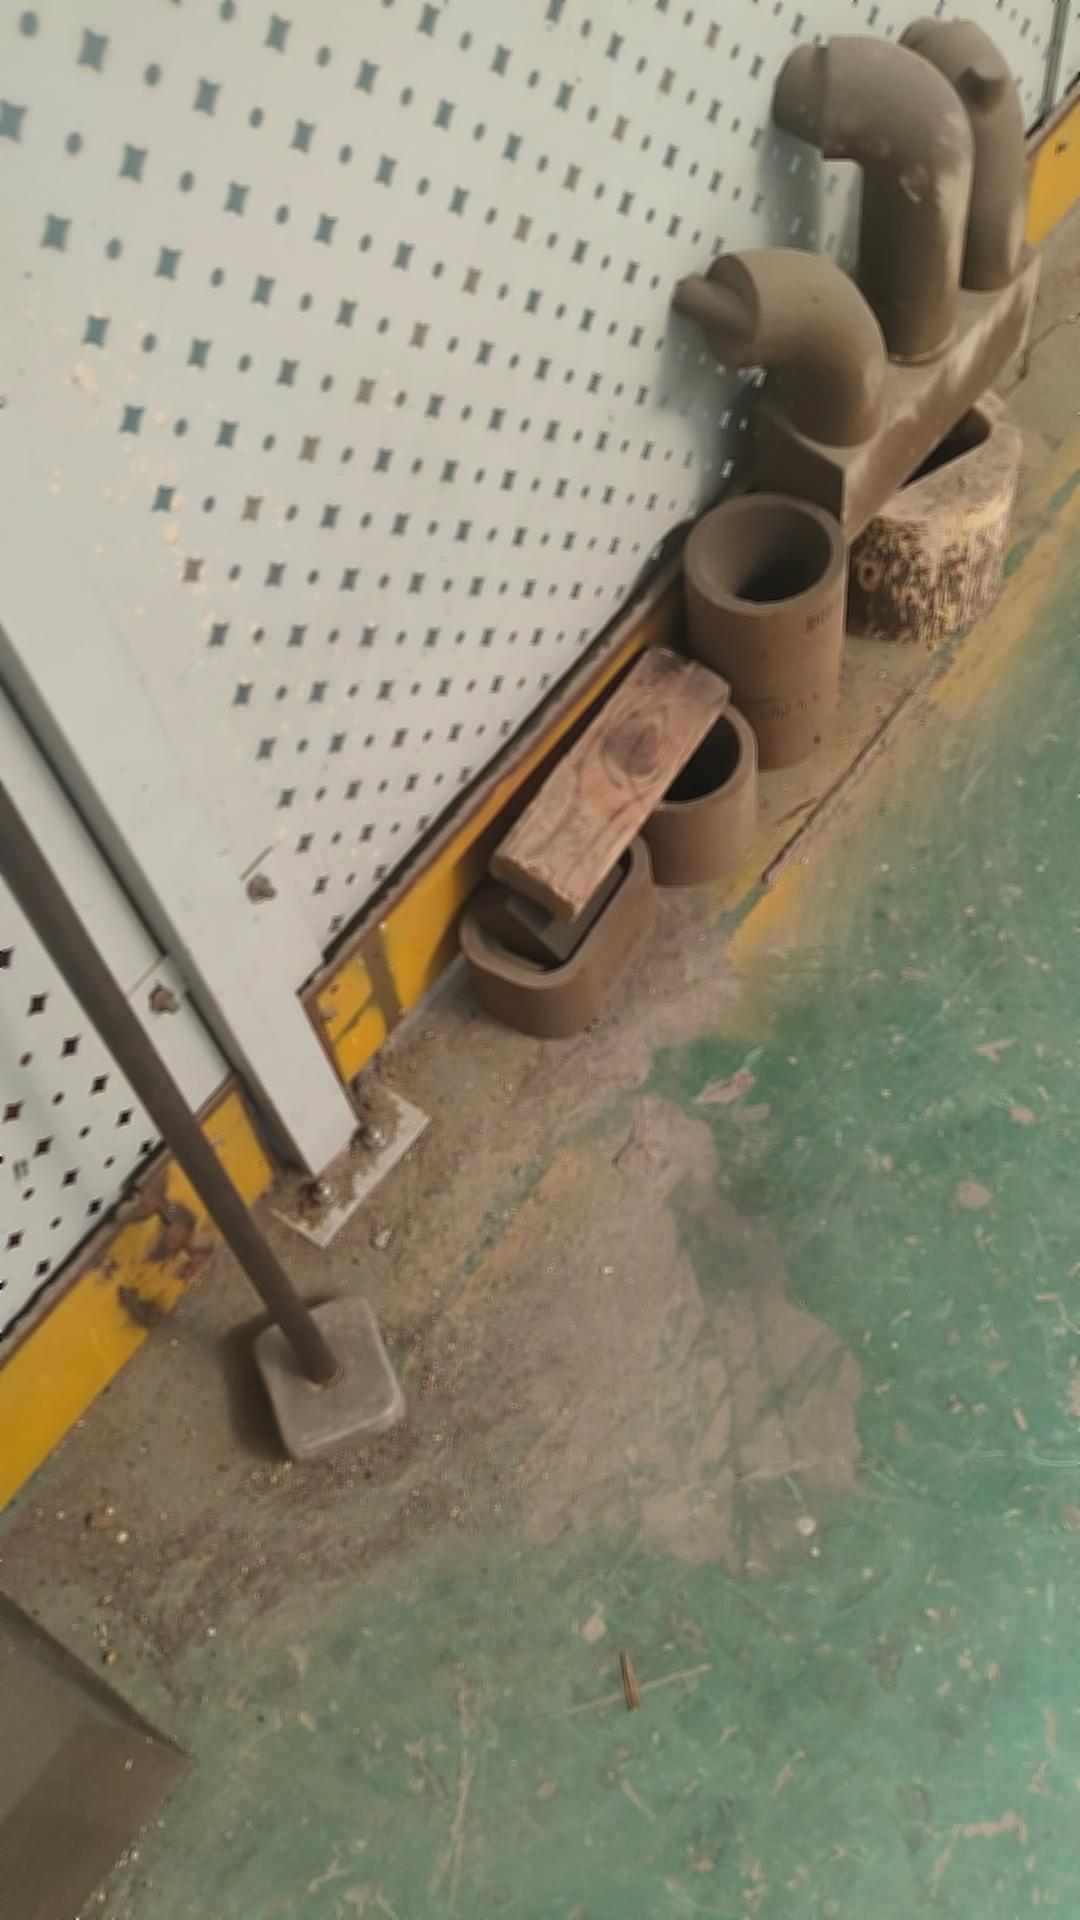pouring hole: (698, 502, 831, 603), (622, 703, 742, 802)
